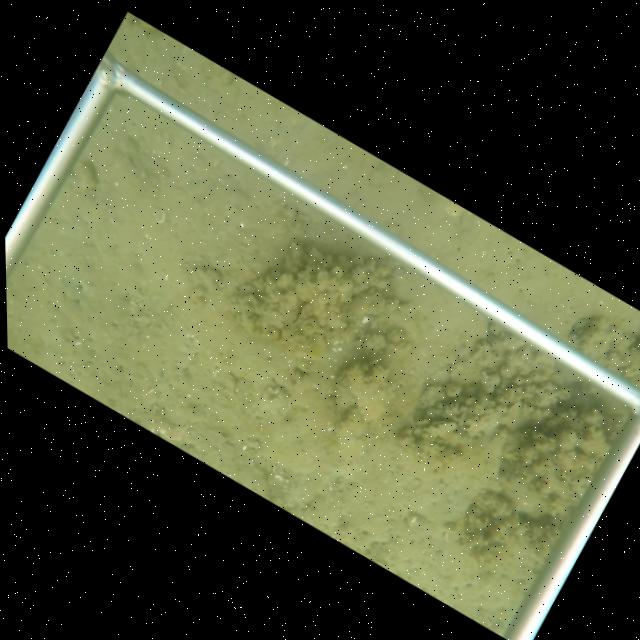Oyster-Open: (410, 419, 458, 441), (287, 305, 305, 328)
